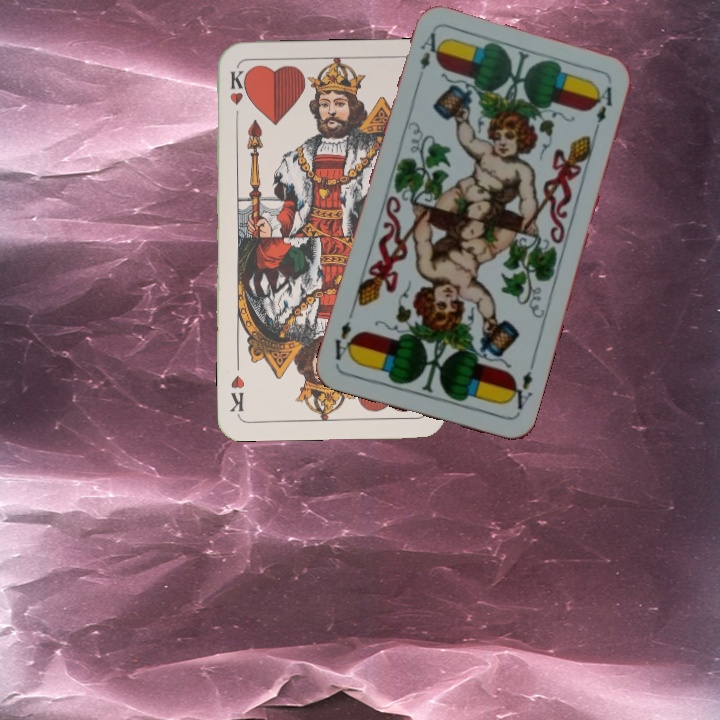EA: (504, 359, 537, 412), (415, 28, 445, 86)
HK: (226, 67, 246, 125)
